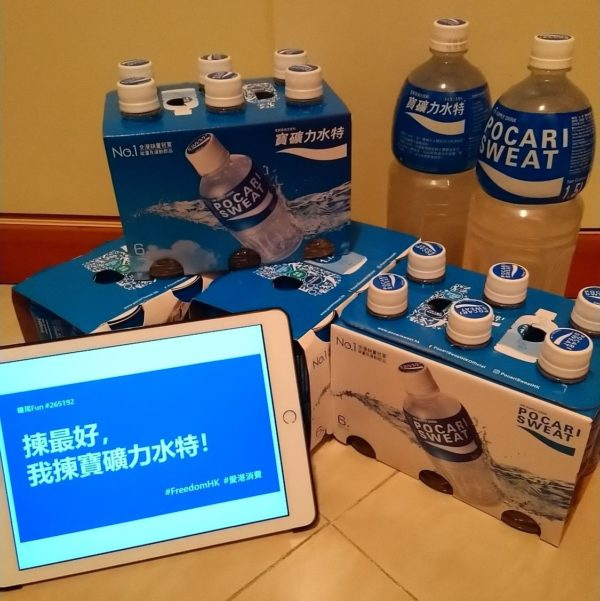POCARI SWEAT: (475, 26, 594, 279), (391, 14, 471, 253)
